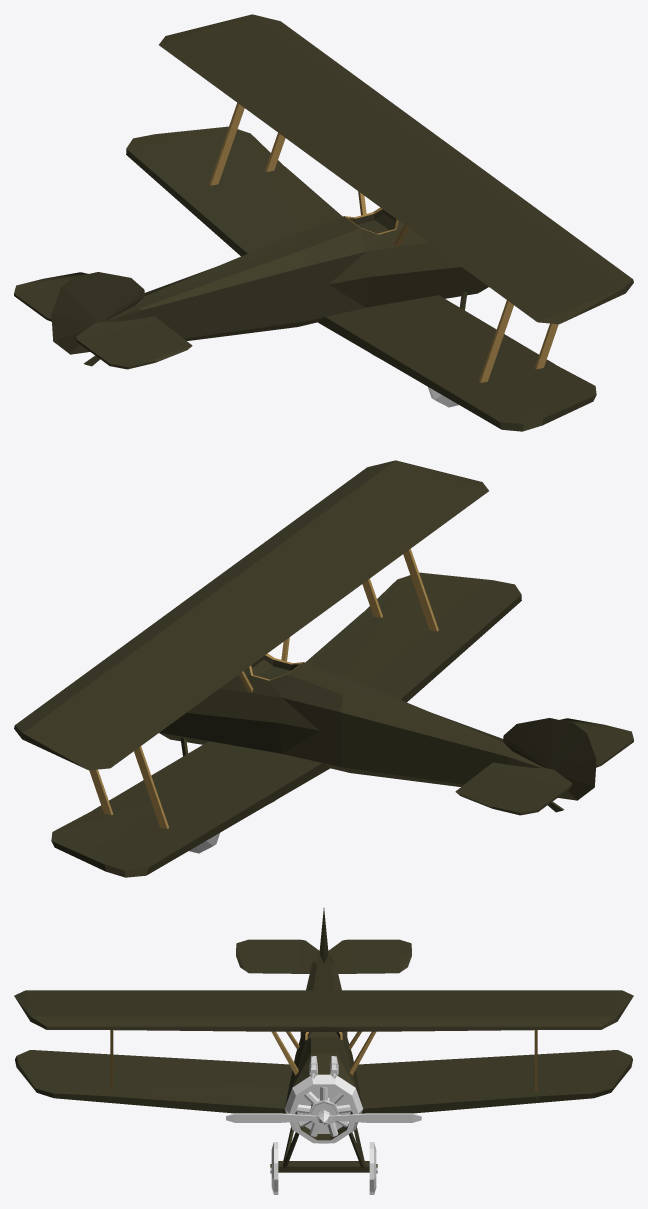
The model's file is camelFinal.fbx.
The picture shows the model from 3 angles, top to bottom: view 1: azimuth 30°, elevation 25°; view 2: azimuth 150°, elevation 25°; view 3: azimuth 270°, elevation 25°; orthographic projection. The views are drawn at different scales.
Visible parts, largest first — view 1: Body; view 2: Body; view 3: Body, Prop.
Part boxes in pixels (x1,y1,x2,y2): Body: [14, 14, 633, 431]; Body: [14, 460, 633, 877]; Body: [14, 908, 633, 1194]; Prop: [226, 1110, 421, 1124].
Size of the model in its own units: 224 by 108 by 338.
